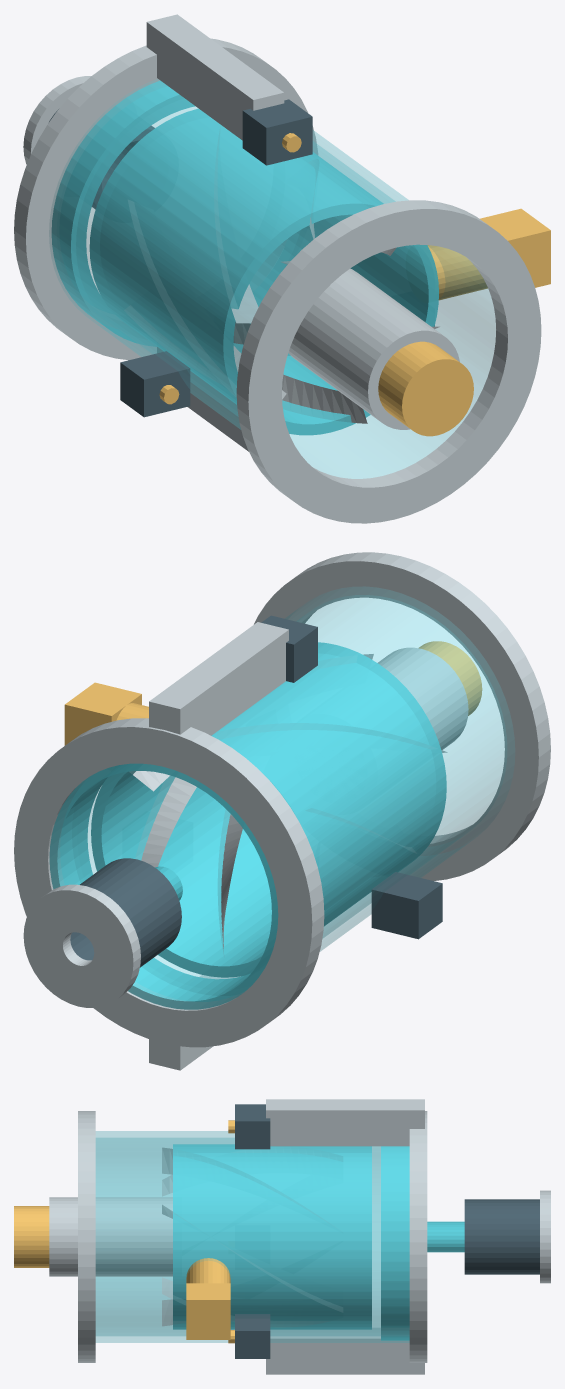
Rendered from SWIRL-SUMP-separator.glb.
3 views of the same model, one above another, from view 1: azimuth 30°, elevation 25°; view 2: azimuth 150°, elevation 25°; view 3: azimuth 270°, elevation 25° (orthographic). The views are drawn at different scales.
Parts seen in each view (by area): view 1: frame, shell, water, gas, dark; view 2: frame, water, shell, dark, gas; view 3: shell, water, frame, dark, gas.
Part boxes in pixels (x1,y1,x2,y2): frame: (14,14,541,523); shell: (49,79,495,478); water: (51,80,438,435); gas: (159,133,550,436); dark: (49,99,434,417); frame: (14,552,550,1070); water: (49,642,446,1009); shell: (88,587,514,978); dark: (70,615,442,967); gas: (64,641,482,745); shell: (95,1131,409,1342); water: (173,1144,464,1340); frame: (49,1099,550,1374); dark: (235,1104,539,1358); gas: (14,1120,234,1343).
Bounding box in the file's own units: 0.146 × 0.132 × 0.243.
